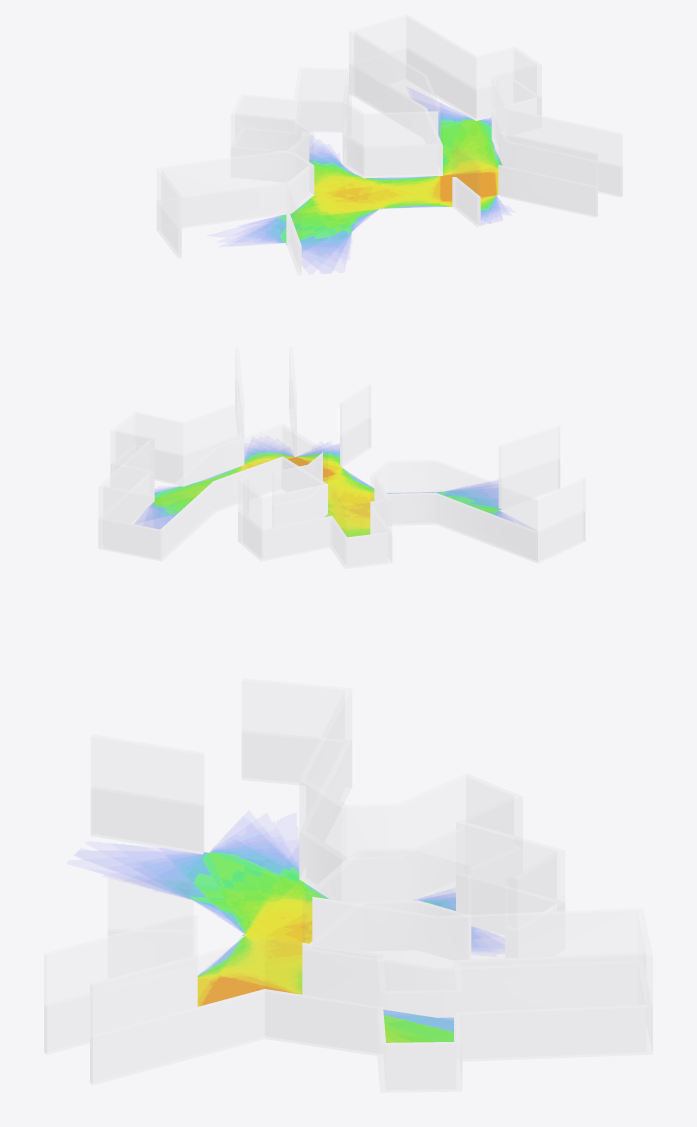
File: houseo_base.glb
The picture shows the model from 3 angles, top to bottom: view 1: azimuth 30°, elevation 25°; view 2: azimuth 150°, elevation 25°; view 3: azimuth 270°, elevation 25°; orthographic projection. The views are drawn at different scales.
Parts seen in each view (by area): view 1: heatmap_1_houseo_color, Mesh_9, Mesh_8; view 2: heatmap_1_houseo_color, Mesh_9, Mesh_8; view 3: heatmap_1_houseo_color, Mesh_8, Mesh_9.
Part boxes in pixels (bbox=[...]): heatmap_1_houseo_color: bbox=[237, 103, 504, 263]; Mesh_9: bbox=[346, 32, 536, 133]; Mesh_8: bbox=[161, 114, 308, 199]; heatmap_1_houseo_color: bbox=[144, 444, 511, 536]; Mesh_9: bbox=[103, 430, 322, 513]; Mesh_8: bbox=[243, 476, 387, 525]; heatmap_1_houseo_color: bbox=[109, 824, 493, 1042]; Mesh_8: bbox=[306, 692, 556, 899]; Mesh_9: bbox=[302, 897, 645, 1012].
Bounding box in the file's own units: 1.25 × 0.1642 × 1.
Materials: 11 (1 with a texture image).
